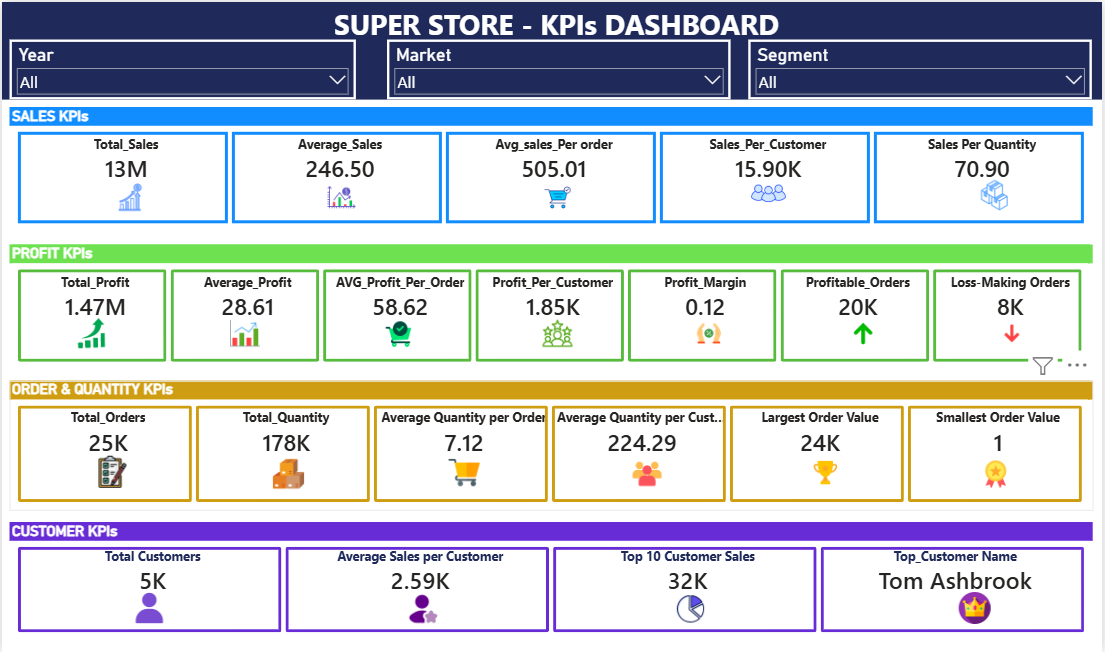

What the dashboard file says about the page in this screenshot:
{"tool":"powerbi","page":{"name":"Page 1","canvas":[2200,1300],"ordinal":0},"visuals":[{"type":"cardVisual","title":"SALES KPIs","fields":{"Data":["Global Superstore.Total_Sales","Global Superstore.Average_Sales","Global Superstore.Avg_sales_Per order","Global Superstore.Sales_Per_Customer","Global Superstore.Sales Per Quantity"]},"box":[16,210,2166,250],"z":0},{"type":"cardVisual","title":"PROFIT KPIs","fields":{"Data":["Global Superstore.Total_Profit","Global Superstore.Average_Profit","Global Superstore.AVG_Profit_Per_Order","Global Superstore.Profit_Per_Customer","Global Superstore.Profit_Margin","Global Superstore.Profitable_Orders","Global Superstore.Loss-Making Orders"]},"box":[16,486,2166,252],"z":1000},{"type":"cardVisual","title":"ORDER & QUANTITY KPIs","fields":{"Data":["Global Superstore.Total_Orders","Global Superstore.Total_Quantity","Global Superstore.Average Quantity per Order","Global Superstore.Average Quantity per Customer","Global Superstore.Largest Order Value","Global Superstore.Smallest Order Value"]},"box":[16,758,2166,260],"z":2000},{"type":"cardVisual","title":"CUSTOMER KPIs","fields":{"Data":["Global Superstore.Total Customers","Global Superstore.Average Sales per Customer","Global Superstore.Top 10 Customer Sales","Global Superstore.Top_Customer Name"]},"box":[16,1040,2166,238],"z":3000},{"type":"image","box":[144,362,222,56],"z":4000},{"type":"image","box":[532,362,292,56],"z":5000},{"type":"image","box":[1004,366,212,52],"z":6000},{"type":"image","box":[1416,348,236,70],"z":7000},{"type":"image","box":[1898,356,174,62],"z":8000},{"type":"image","box":[86,632,188,60],"z":9000},{"type":"image","box":[400,632,172,60],"z":10000},{"type":"image","box":[708,634,170,58],"z":11000},{"type":"image","box":[1004,632,212,60],"z":12000},{"type":"image","box":[1316,632,198,60],"z":13000},{"type":"image","box":[1668,636,108,56],"z":14000},{"type":"image","box":[1922,632,194,60],"z":15000},{"type":"image","box":[144,908,152,64],"z":16000},{"type":"image","box":[484,912,176,62],"z":17000},{"type":"image","box":[846,910,158,62],"z":18000},{"type":"image","box":[1164,912,250,62],"z":19000},{"type":"image","box":[1518,910,258,62],"z":20000},{"type":"image","box":[1878,914,220,58],"z":21000},{"type":"image","box":[168,1180,254,64],"z":22000},{"type":"image","box":[708,1182,270,62],"z":23000},{"type":"image","box":[1246,1182,264,62],"z":24000},{"type":"image","box":[1816,1180,260,64],"z":25000},{"type":"textbox","box":[0,0,2200,195],"z":26000},{"type":"slicer","fields":{"Values":["Global Superstore.Year"]},"box":[15,75,692.5,120],"z":27000},{"type":"image","box":[532.5,22.5,87.5,52.5],"z":27003},{"type":"image","box":[1595,22.5,110,52.5],"z":27004},{"type":"slicer","fields":{"Values":["Global Superstore.Market"]},"box":[770,75,687.5,120],"z":27005},{"type":"slicer","fields":{"Values":["Global Superstore.Segment"]},"box":[1492.5,75,687.5,120],"z":27006}]}

Visuals, with their boxes in screenshot pixels (x1, y1, x2, y2), scaled from the page's 2200x1300 canvas onto the 1105x652 screenshot:
"SALES KPIs" cardVisual: 8/105/1096/231
"PROFIT KPIs" cardVisual: 8/244/1096/370
"ORDER & QUANTITY KPIs" cardVisual: 8/380/1096/511
"CUSTOMER KPIs" cardVisual: 8/522/1096/641
image: 72/182/184/210
image: 267/182/414/210
image: 504/184/611/210
image: 711/175/830/210
image: 953/179/1041/210
image: 43/317/138/347
image: 201/317/287/347
image: 356/318/441/347
image: 504/317/611/347
image: 661/317/760/347
image: 838/319/892/347
image: 965/317/1063/347
image: 72/455/149/487
image: 243/457/332/488
image: 425/456/504/487
image: 585/457/710/488
image: 762/456/892/487
image: 943/458/1054/487
image: 84/592/212/624
image: 356/593/491/624
image: 626/593/758/624
image: 912/592/1043/624
textbox: 0/0/1104/98
slicer - Global Superstore.Year: 8/38/355/98
image: 267/11/311/38
image: 801/11/856/38
slicer - Global Superstore.Market: 387/38/732/98
slicer - Global Superstore.Segment: 750/38/1095/98
